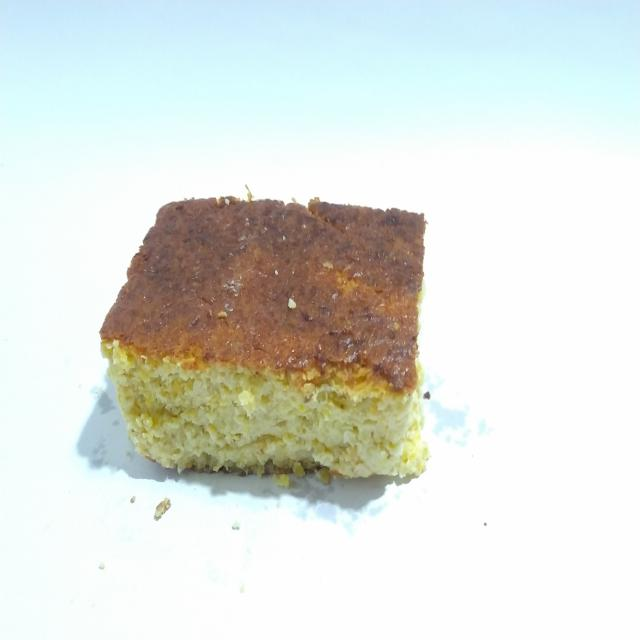Food: (93, 183, 445, 493)
